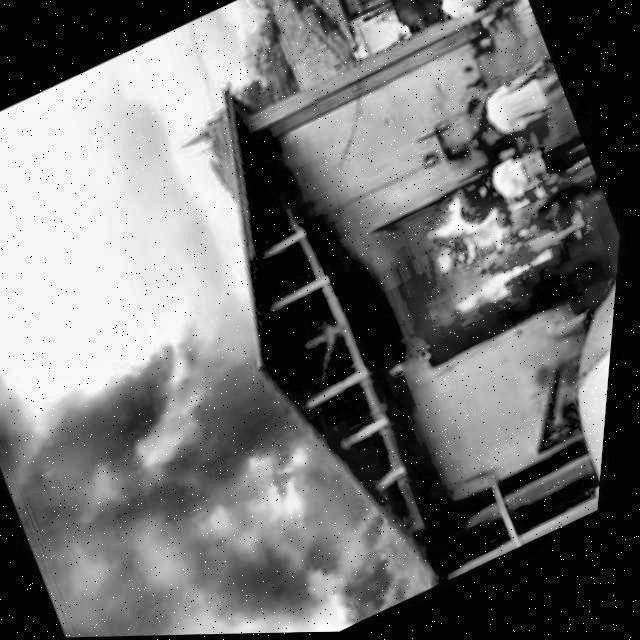Smoke: (445, 251, 570, 336), (411, 183, 517, 280)
